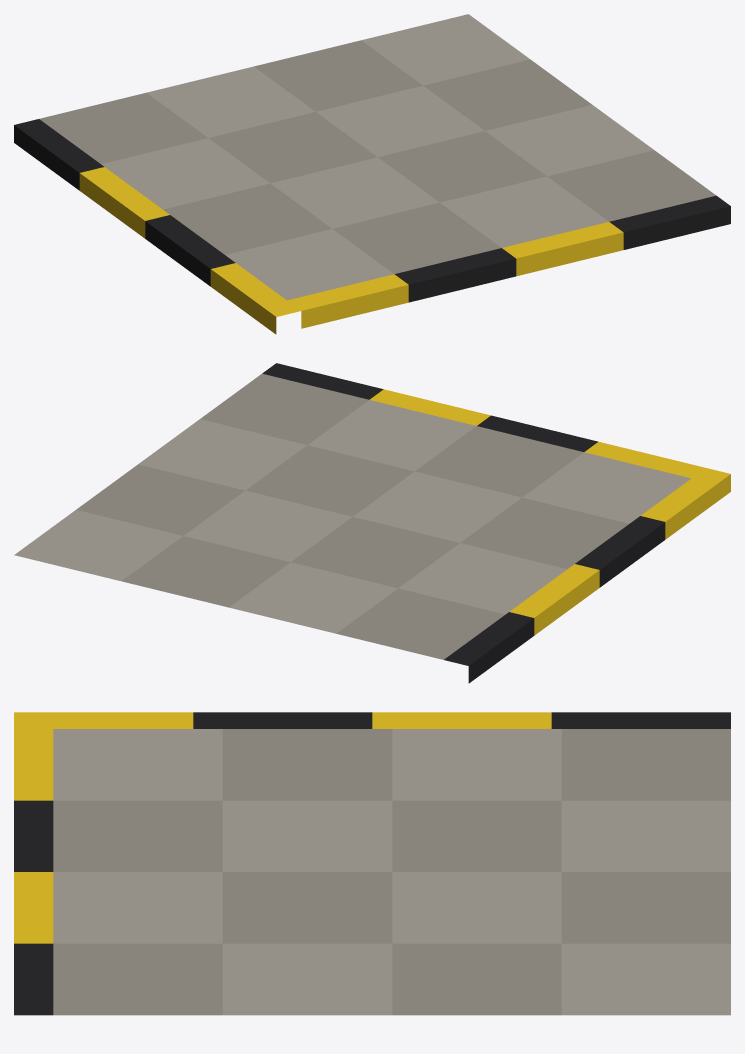
Rendered from road_walk_corner.glb.
3 renders of one model, top to bottom at view 1: azimuth 30°, elevation 25°; view 2: azimuth 150°, elevation 25°; view 3: azimuth 270°, elevation 25°, orthographic. The views are drawn at different scales.
Visible parts, largest first — view 1: road_walk_corner; view 2: road_walk_corner; view 3: road_walk_corner.
Part boxes in pixels (x1,y1,x2,y2): road_walk_corner: (14, 14, 730, 334); road_walk_corner: (14, 363, 730, 683); road_walk_corner: (14, 712, 730, 1015).
Bounding box in the file's own units: 4 × 0.15 × 4.
